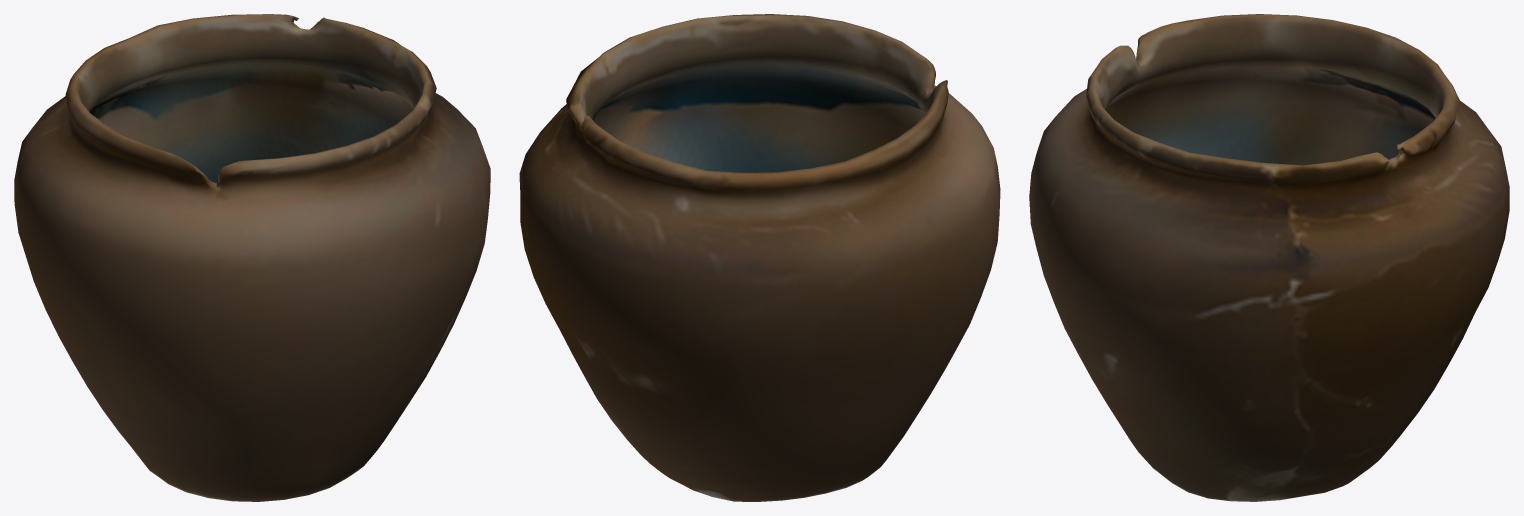
File: 14.pot.glb
3 views of the same model, side by side, from view 1: azimuth 30°, elevation 25°; view 2: azimuth 150°, elevation 25°; view 3: azimuth 270°, elevation 25° (orthographic).
Visible parts, largest first — view 1: Default_remesh.002; view 2: Default_remesh.002; view 3: Default_remesh.002.
Boxes of the visible parts, <box> form: Default_remesh.002: <box>14,14,490,501</box>; Default_remesh.002: <box>519,14,1000,501</box>; Default_remesh.002: <box>1029,14,1509,501</box>.
Bounding box in the file's own units: 0.9939 × 0.8516 × 0.9931.
Materials: 1 (1 with a texture image).
